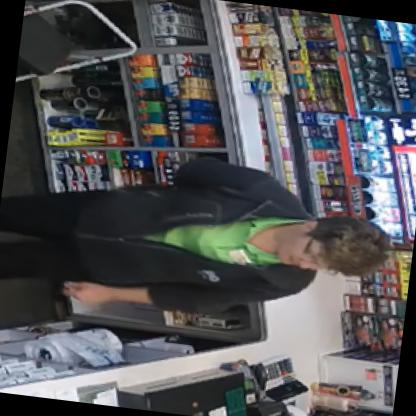Human Body: (0, 113, 407, 348)
